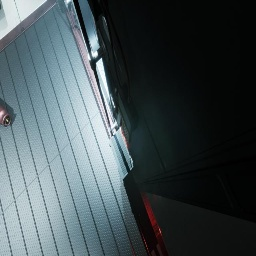EmergencyPhone ,: (114, 98, 132, 144)
FireAlarm ,: (121, 126, 130, 149)
NitrogenTank ,: (0, 104, 11, 127)
